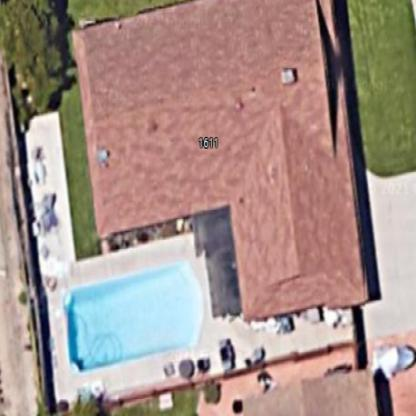pool: (56, 258, 216, 376)
